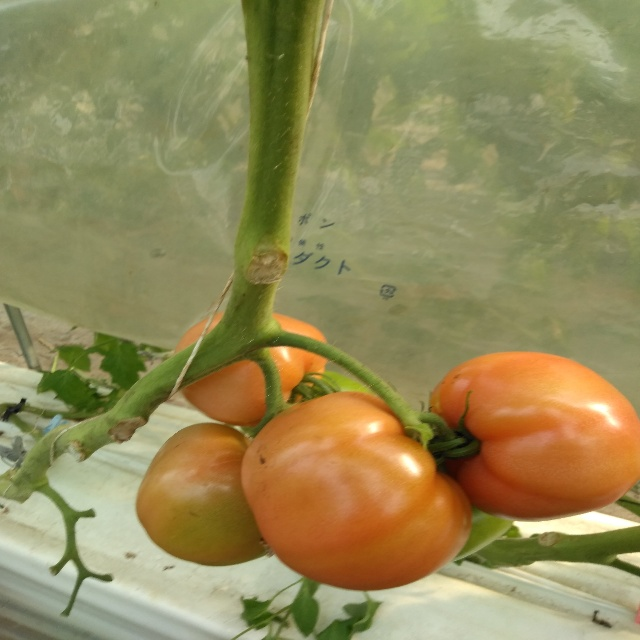b_green: (452, 505, 515, 562), (299, 370, 385, 404)
b_half_ripened: (240, 391, 474, 591), (427, 351, 640, 522), (136, 422, 273, 567), (174, 307, 329, 429)
